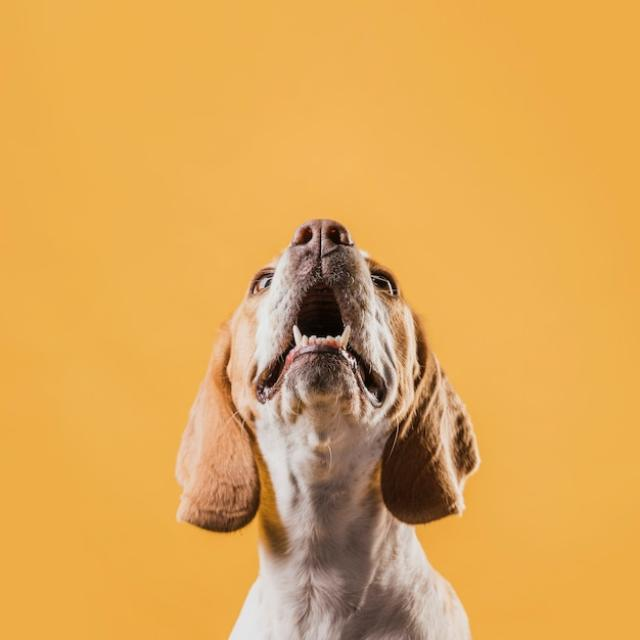Dog: (179, 218, 482, 640)
